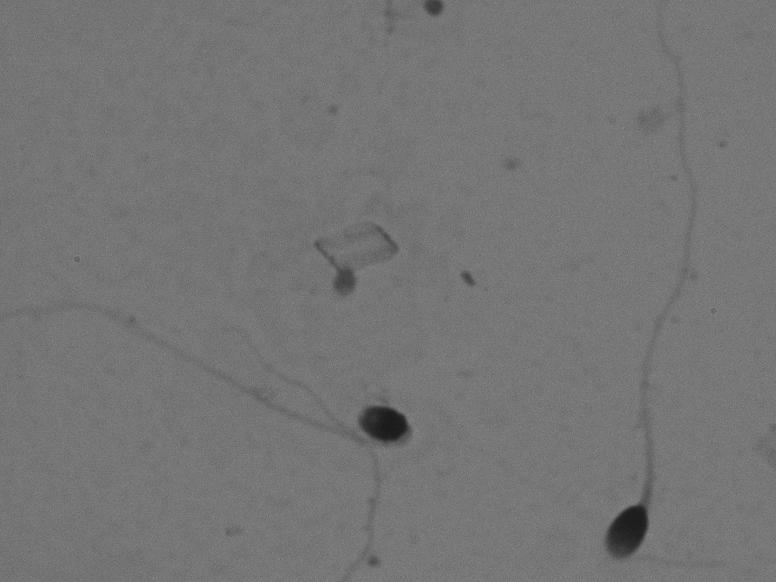Abnormal: (21, 266, 447, 467)
Normal: (581, 9, 713, 570)
